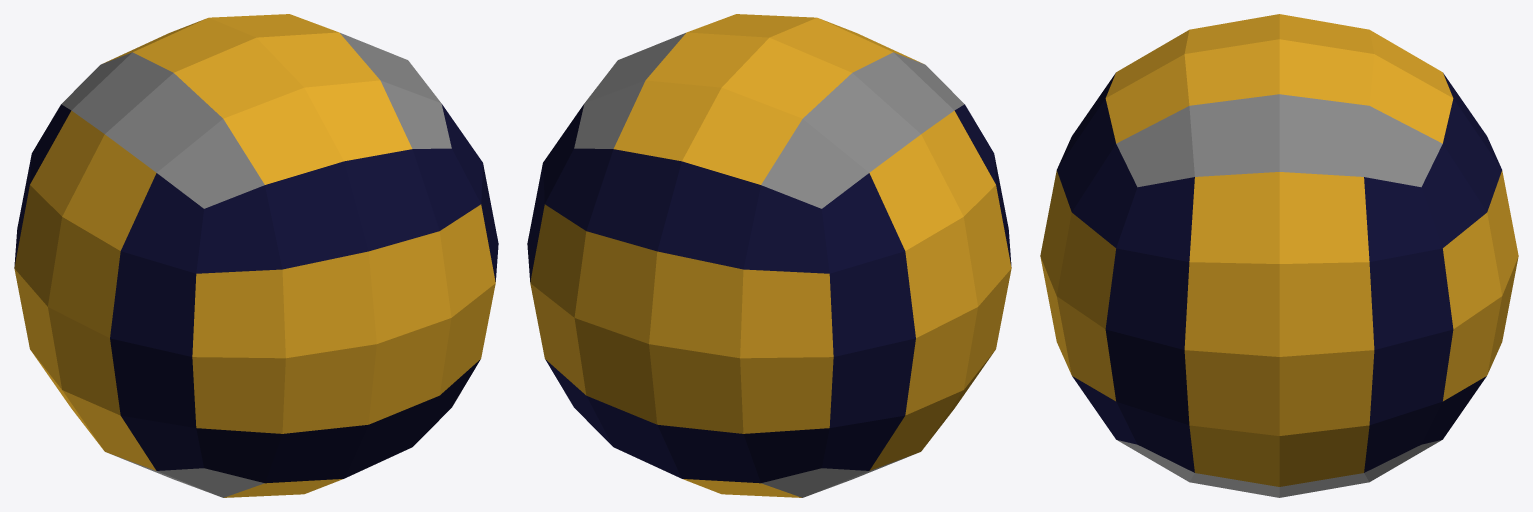
The model's file is volleyball.glb.
3 renders of one model, left to right at view 1: azimuth 30°, elevation 25°; view 2: azimuth 150°, elevation 25°; view 3: azimuth 270°, elevation 25°, orthographic.
Parts seen in each view (by area): view 1: VolleyballBall1; view 2: VolleyballBall1; view 3: VolleyballBall1.
Boxes of the visible parts, x1,y1,x2,y2 form: VolleyballBall1: [14, 14, 498, 497]; VolleyballBall1: [527, 14, 1011, 497]; VolleyballBall1: [1040, 14, 1518, 497].
Size of the model in its own units: 0.4939 by 0.4939 by 0.4939.
